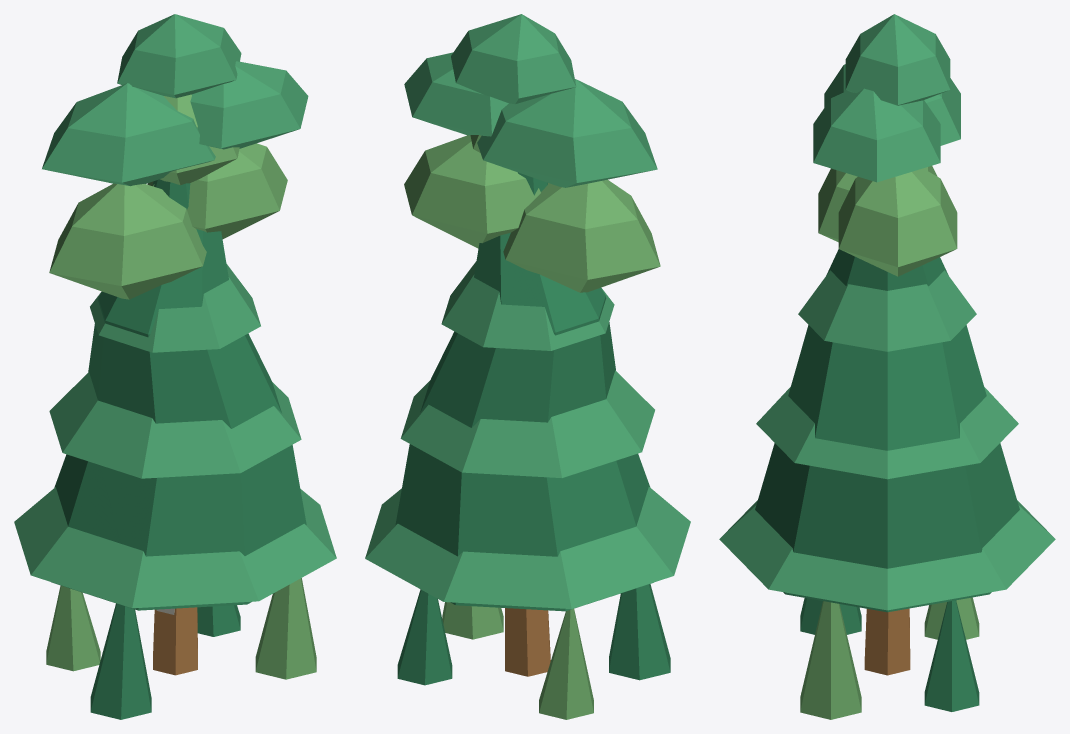
File: WG_ConiferSet.glb
The picture shows the model from 3 angles, left to right: view 1: azimuth 30°, elevation 25°; view 2: azimuth 150°, elevation 25°; view 3: azimuth 270°, elevation 25°; orthographic projection.
Parts seen in each view (by area): view 1: GEO_ConiferLayered_LOD0, GEO_ConiferBrokenTop_LOD0, GEO_BirchCrown_LOD0, GEO_ScotsPineCrown_LOD0, GEO_ConiferNarrow_LOD0, GEO_ScotsPineTrunk_LOD0; view 2: GEO_ConiferLayered_LOD0, GEO_ConiferBrokenTop_LOD0, GEO_BirchCrown_LOD0, GEO_ScotsPineCrown_LOD0, GEO_ConiferNarrow_LOD0, GEO_ScotsPineTrunk_LOD0; view 3: GEO_ConiferBrokenTop_LOD0, GEO_ConiferLayered_LOD0, GEO_ScotsPineCrown_LOD0, GEO_BirchCrown_LOD0, GEO_ConiferNarrow_LOD0, GEO_ScotsPineTrunk_LOD0.
Boxes of the visible parts, x1,y1,x2,y2 form: GEO_ConiferLayered_LOD0: [14, 264, 336, 608]; GEO_ConiferBrokenTop_LOD0: [51, 229, 306, 610]; GEO_BirchCrown_LOD0: [46, 94, 316, 679]; GEO_ScotsPineCrown_LOD0: [42, 14, 308, 186]; GEO_ConiferNarrow_LOD0: [90, 179, 240, 719]; GEO_ScotsPineTrunk_LOD0: [153, 607, 197, 675]; GEO_ConiferLayered_LOD0: [365, 261, 690, 608]; GEO_ConiferBrokenTop_LOD0: [395, 232, 653, 611]; GEO_BirchCrown_LOD0: [404, 135, 660, 719]; GEO_ScotsPineCrown_LOD0: [404, 14, 657, 187]; GEO_ConiferNarrow_LOD0: [397, 172, 670, 685]; GEO_ScotsPineTrunk_LOD0: [505, 608, 550, 676]; GEO_ConiferBrokenTop_LOD0: [755, 249, 1019, 612]; GEO_ConiferLayered_LOD0: [719, 270, 1055, 610]; GEO_ScotsPineCrown_LOD0: [813, 14, 960, 182]; GEO_BirchCrown_LOD0: [800, 165, 979, 719]; GEO_ConiferNarrow_LOD0: [800, 598, 979, 711]; GEO_ScotsPineTrunk_LOD0: [864, 608, 910, 675].
Bounding box in the file's own units: 2.56 × 5.47 × 2.56.
